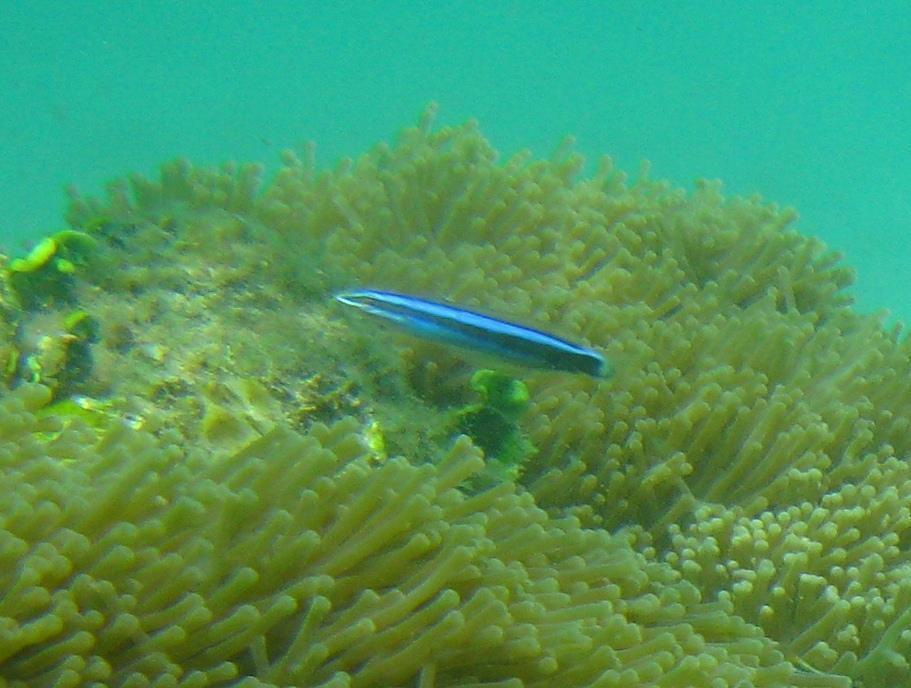Fish: (302, 227, 678, 436)
